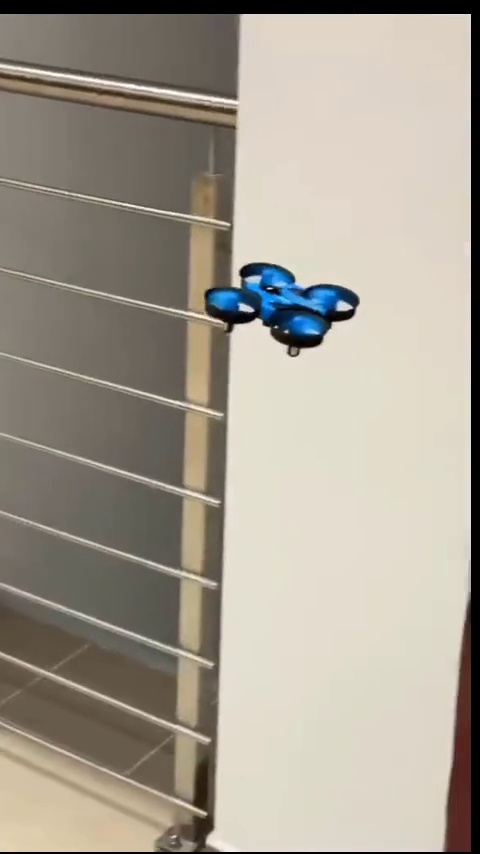drone: (202, 263, 360, 346)
